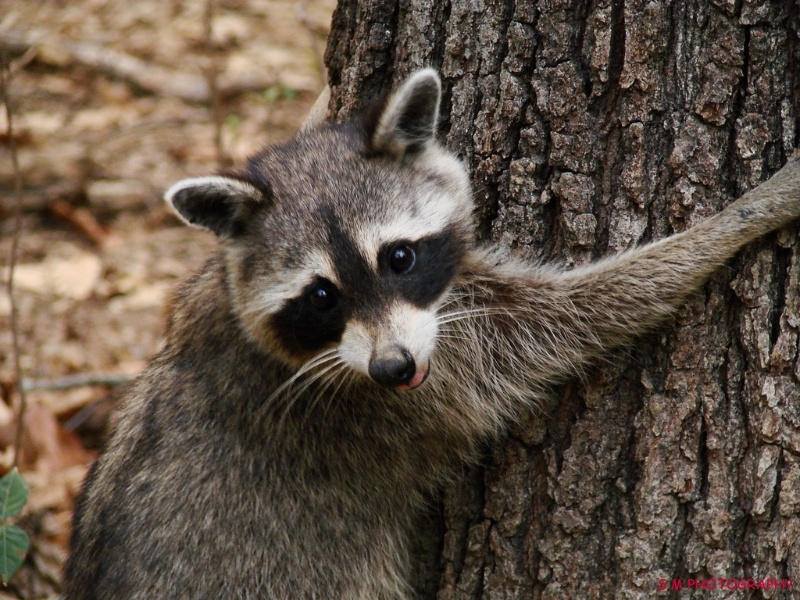raccoon: (55, 43, 789, 592)
